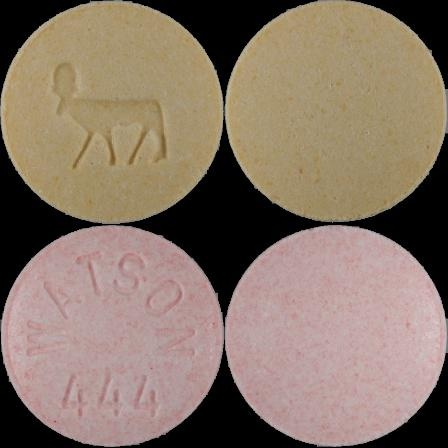54868-6439: (0, 0, 224, 224)
